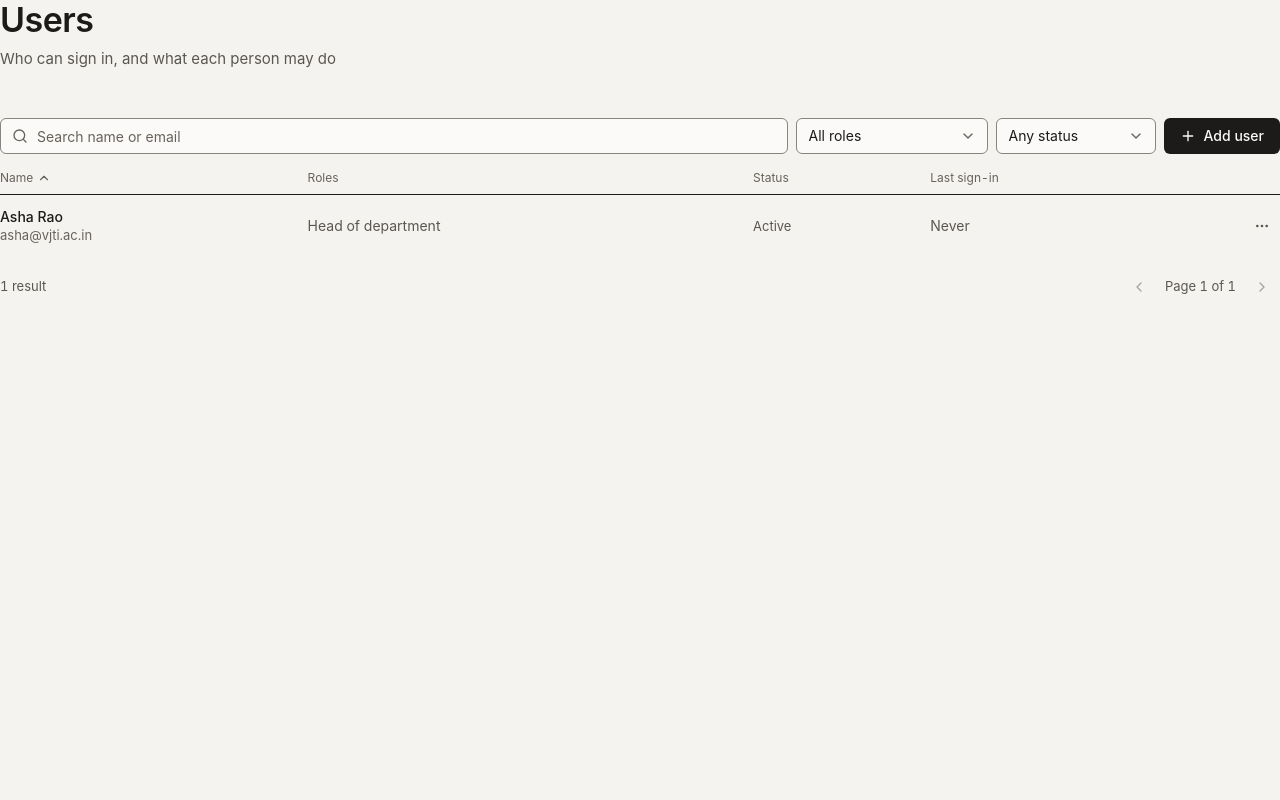
UsersPage › only offers roles that can be held together
The image size is (1280, 800).
Expected: the text "Asha Rao" is shown, top-left (0, 208), bottom-right (63, 225)
Click the button "Add user".
click(1222, 136)  # box top-left (1164, 118), bottom-right (1279, 154)
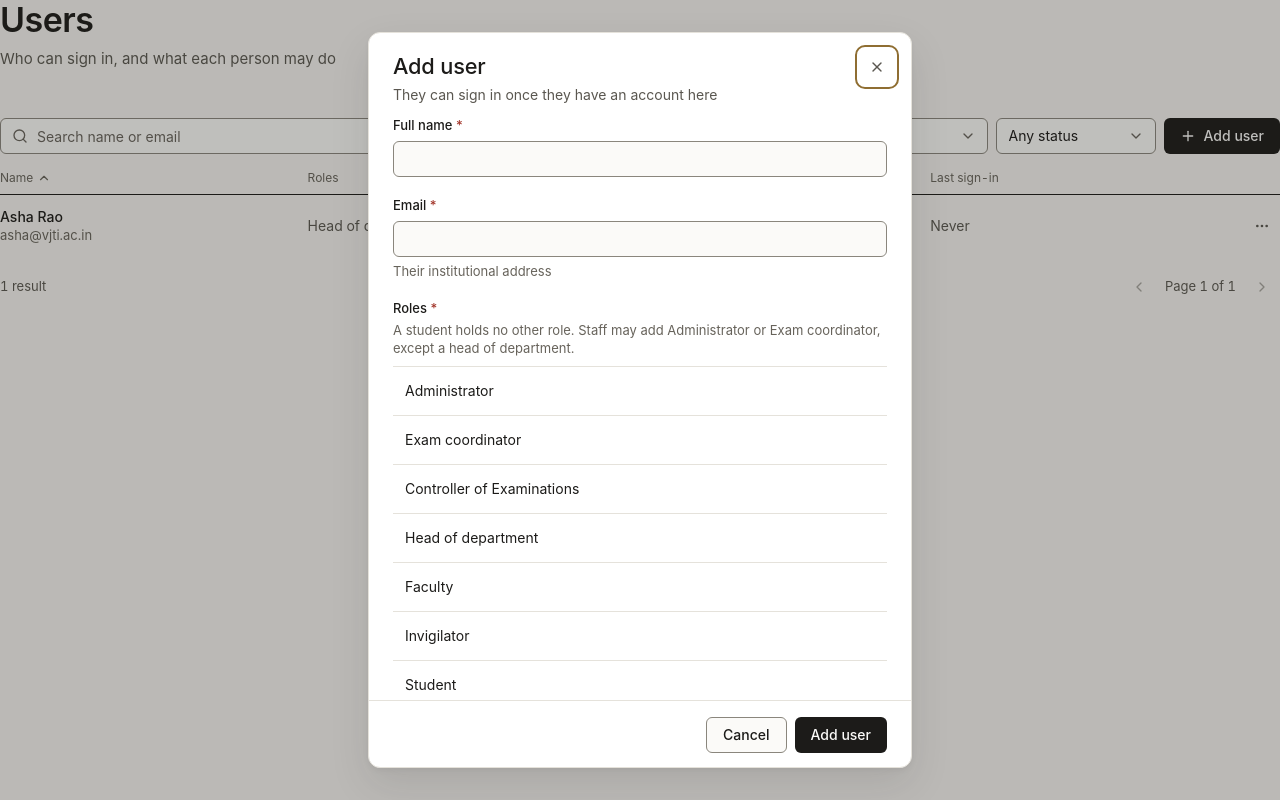
Click the checkbox labelled "Administrator".
click(449, 391)  # box top-left (405, 382), bottom-right (494, 399)
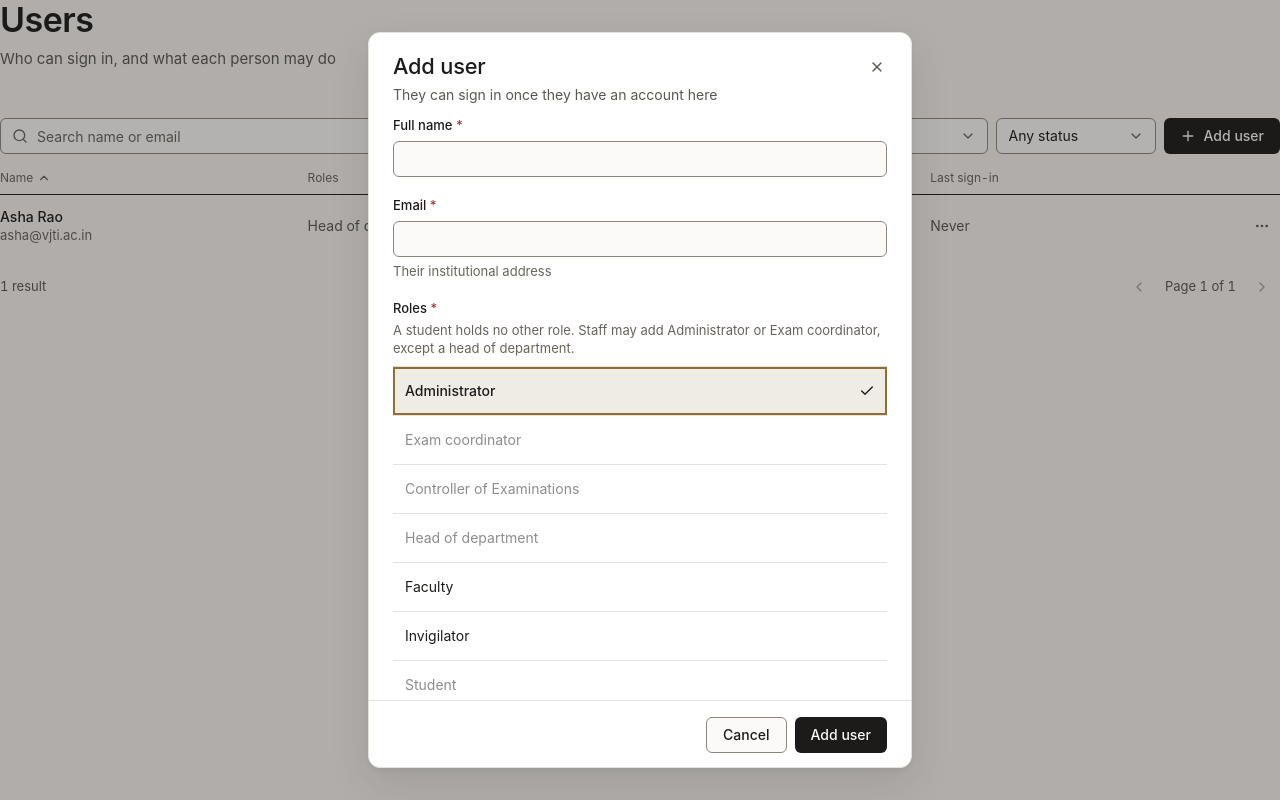
Result: the checkbox labelled "Student" is disabled at top-left (405, 676), bottom-right (456, 693)
Result: the checkbox labelled "Exam coordinator" is disabled at top-left (405, 431), bottom-right (521, 448)
Result: the checkbox labelled "Head of department" is disabled at top-left (405, 529), bottom-right (538, 546)
